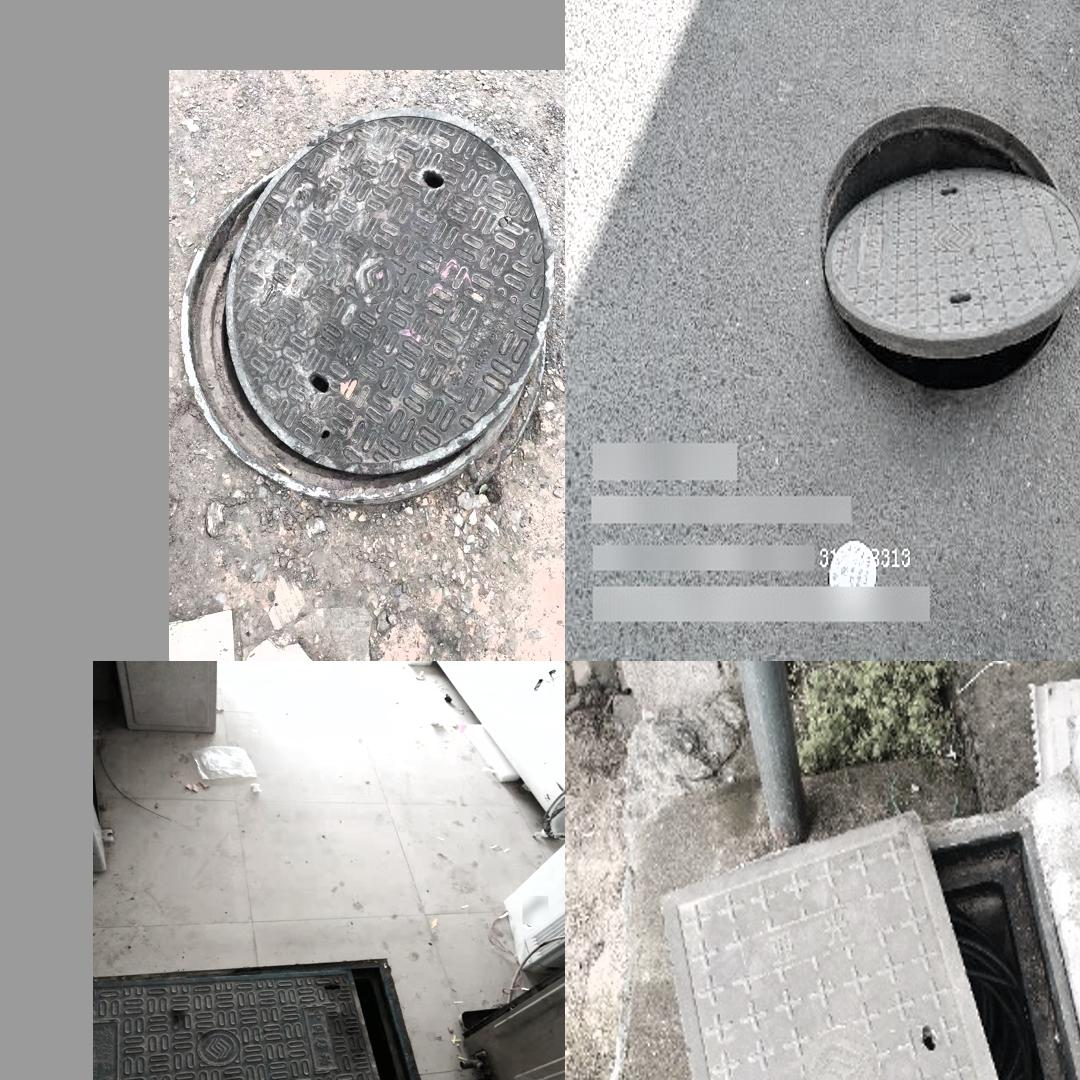uncovered: (179, 103, 554, 503), (660, 804, 1080, 1080), (819, 105, 1080, 387), (96, 957, 432, 1080)
